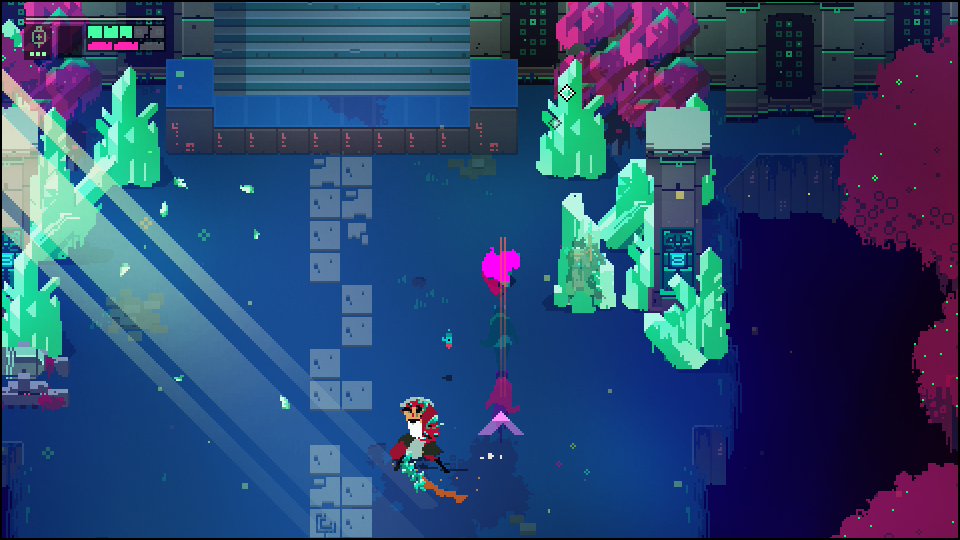hanged_man: (386, 398, 459, 500)
player: (480, 246, 523, 287)
